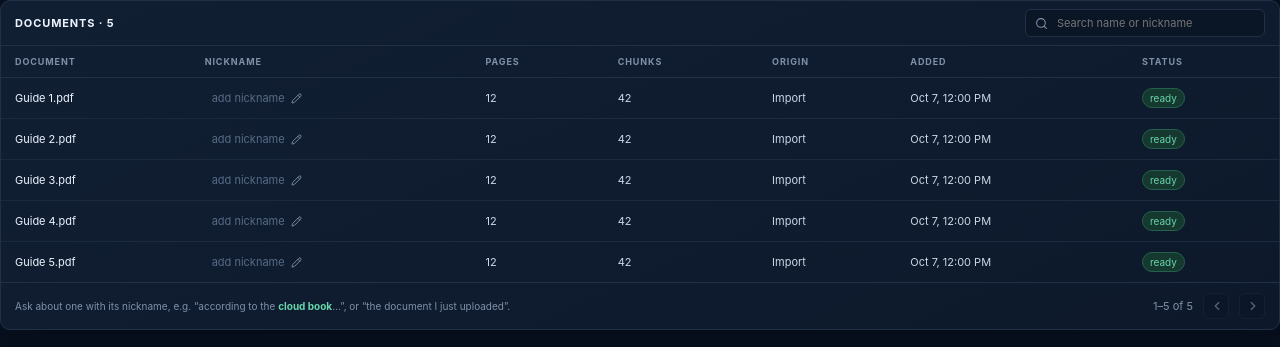
Test: DocumentsTable search › explains when nothing matches
Expected: the text "Guide 1.pdf" is shown, 1,78 -> 191,118
In the field with placeholder "Search name or nickname": (1155, 23) 1055,15 -> 1255,31, type "zzz"
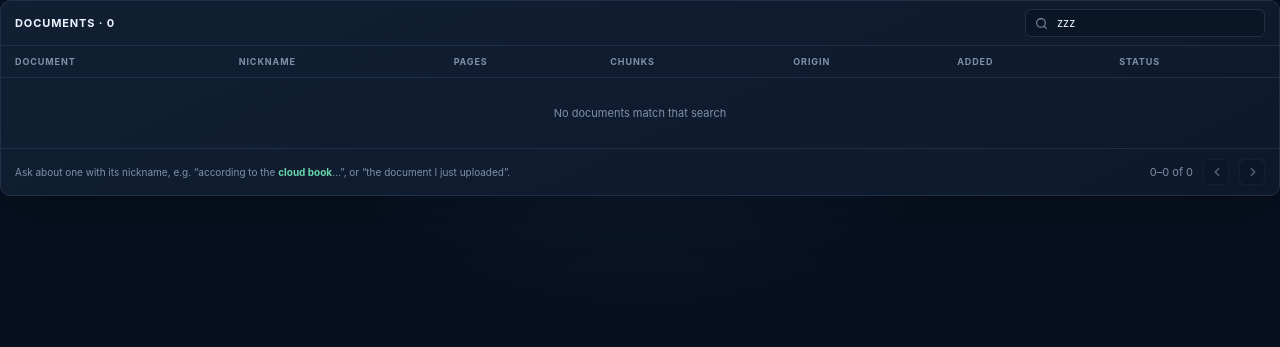
Result: the text "No documents match that search" is shown at 1,78 -> 1279,148
